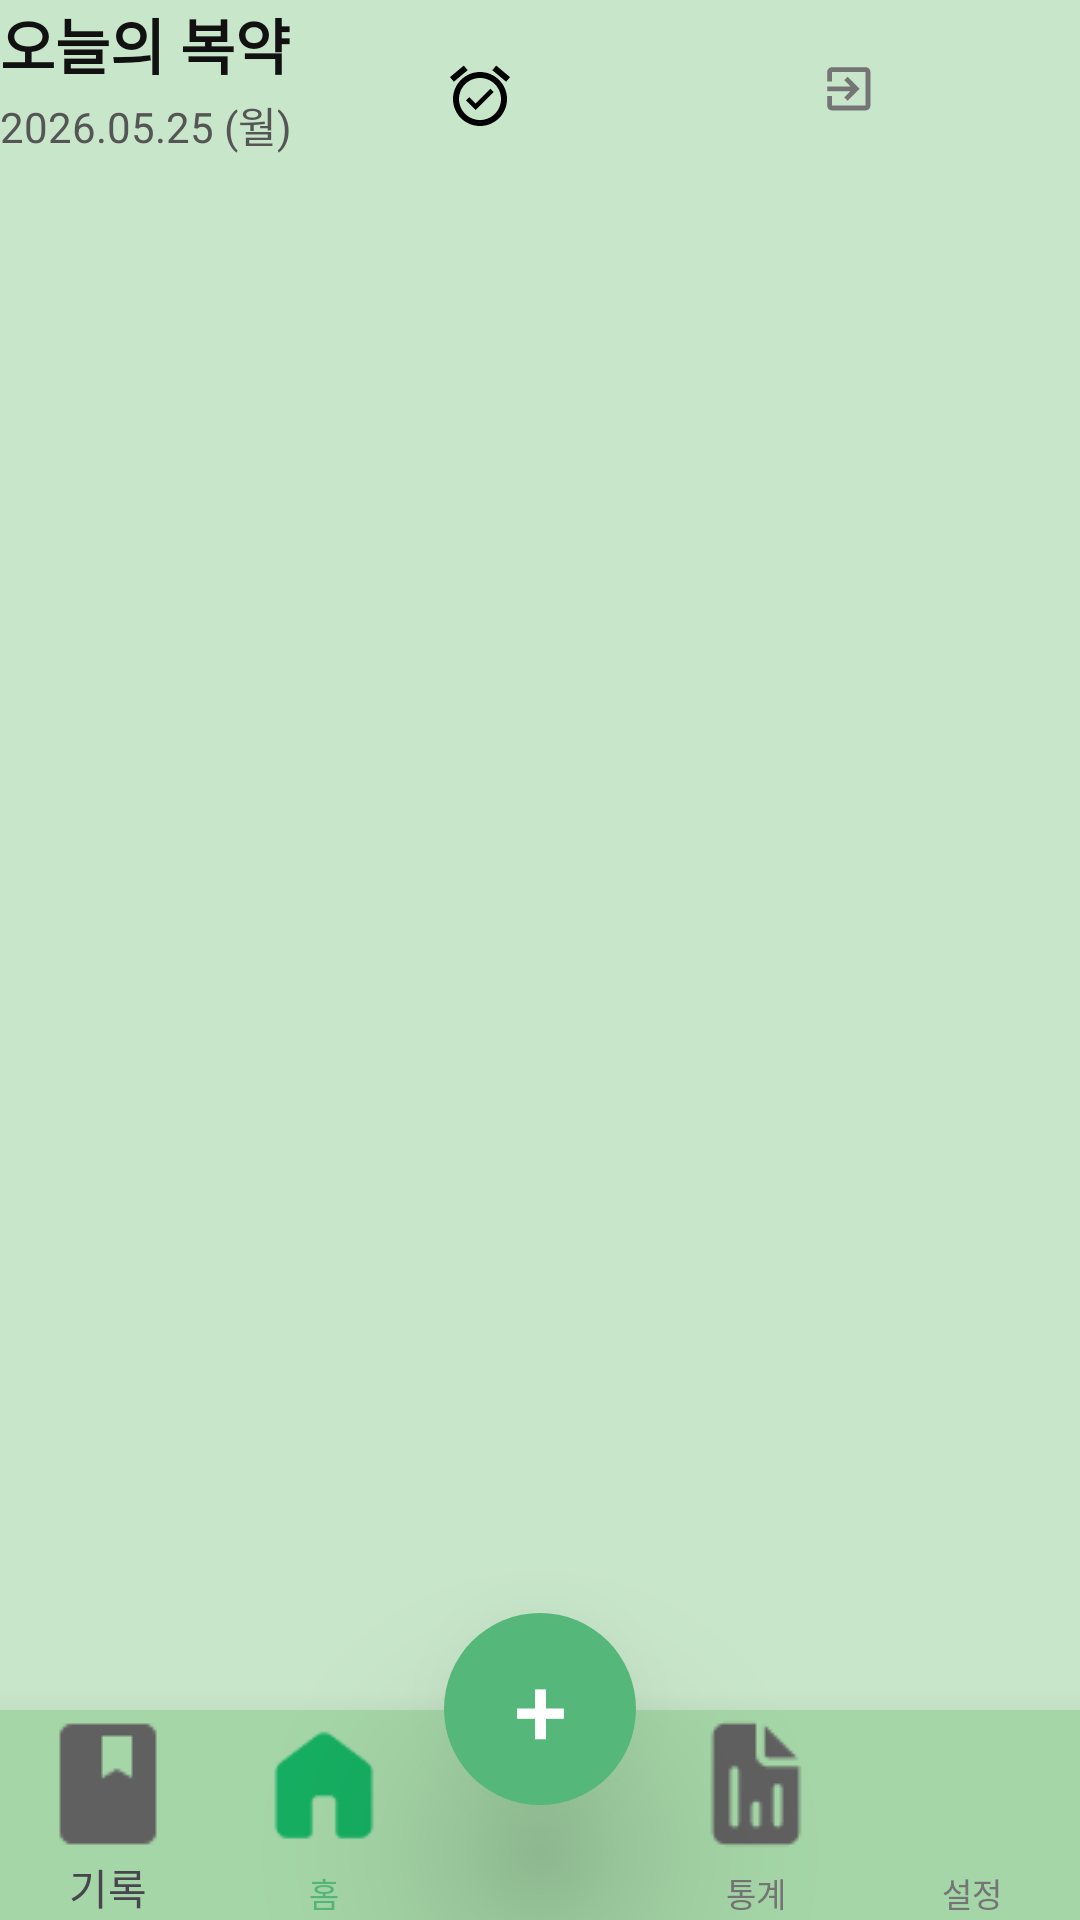

Named icons in this screenshot (1080 x 1920) and their centers, [x,y]:
로그아웃: [849,89]
알림 설정: [480,95]
